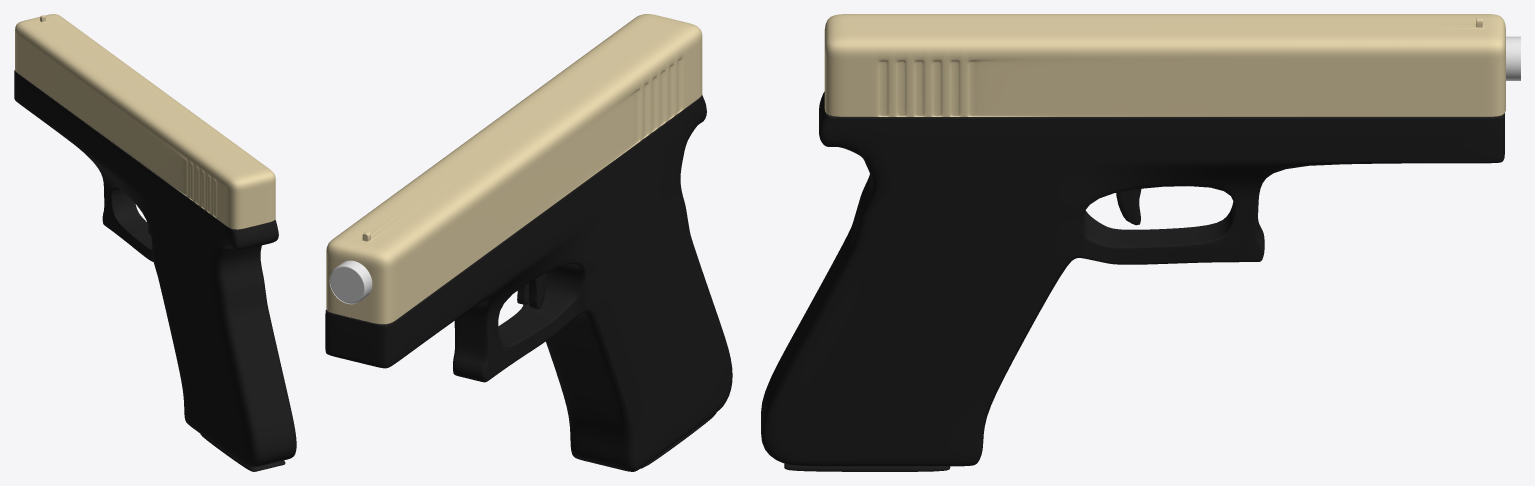
Rendered from glock.fbx.
The picture shows the model from 3 angles, left to right: view 1: azimuth 30°, elevation 25°; view 2: azimuth 150°, elevation 25°; view 3: azimuth 270°, elevation 25°; orthographic projection. The views are drawn at different scales.
Visible parts, largest first — view 1: Cube.001, Cube, Cube.005; view 2: Cube.001, Cube, Cylinder.001, Cube.003; view 3: Cube.001, Cube, Cube.005.
Boxes of the visible parts, left/top/right/bottom form: Cube.001: left=14, top=70, right=296, bottom=467; Cube: left=15, top=14, right=275, bottom=229; Cube.005: left=200, top=434, right=285, bottom=471; Cube.001: left=325, top=95, right=732, bottom=471; Cube: left=326, top=14, right=702, bottom=324; Cylinder.001: left=329, top=260, right=372, bottom=304; Cube.003: left=528, top=273, right=547, bottom=309; Cube.001: left=761, top=91, right=1504, bottom=466; Cube: left=824, top=14, right=1505, bottom=116; Cube.005: left=784, top=463, right=950, bottom=471.
Bounding box in the file's own units: 91.06 × 546 × 854.
